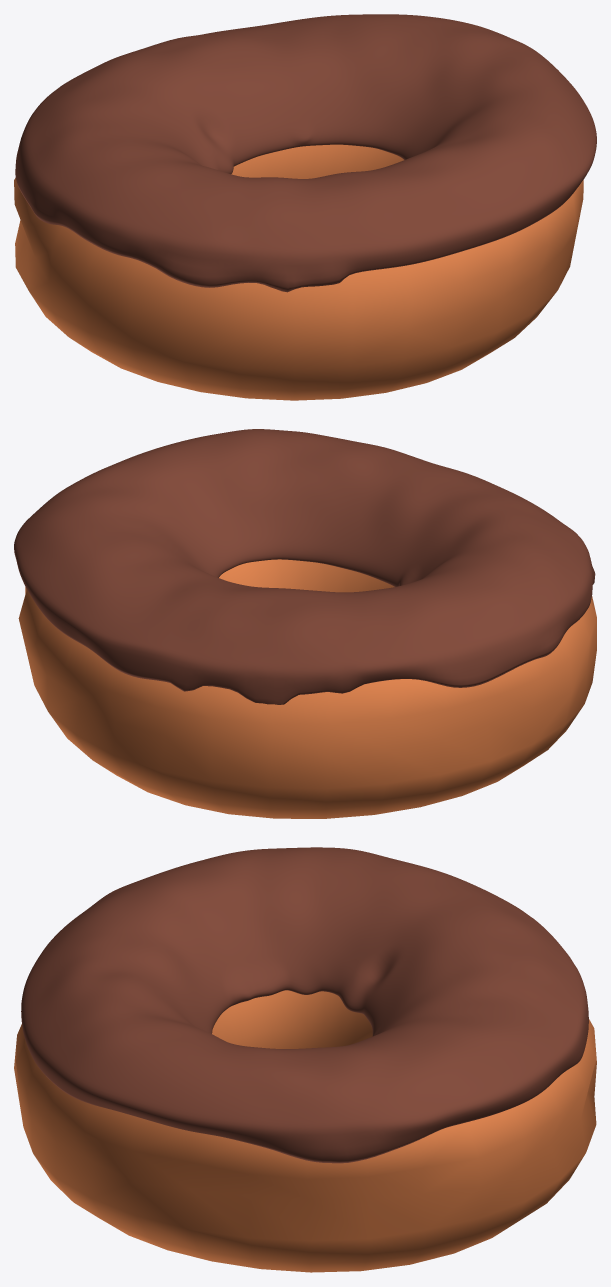
File: donut.gltf
3 renders of one model, top to bottom at view 1: azimuth 30°, elevation 25°; view 2: azimuth 150°, elevation 25°; view 3: azimuth 270°, elevation 25°, orthographic. The views are drawn at different scales.
Visible parts, largest first — view 1: Icing, donut; view 2: Icing, donut; view 3: Icing, donut.
Boxes of the visible parts, <box> form: Icing: <box>15,14,596,292</box>; donut: <box>14,144,583,400</box>; Icing: <box>14,429,595,704</box>; donut: <box>18,559,596,818</box>; Icing: <box>21,847,588,1163</box>; donut: <box>14,990,596,1272</box>.
Size of what is drawn, in the model's own units: 0.1631 by 0.0646 by 0.148.
